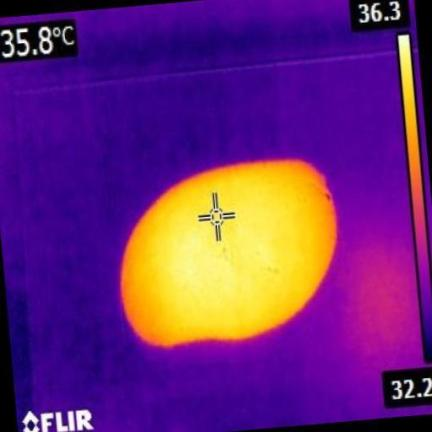mango: (120, 160, 336, 346)
